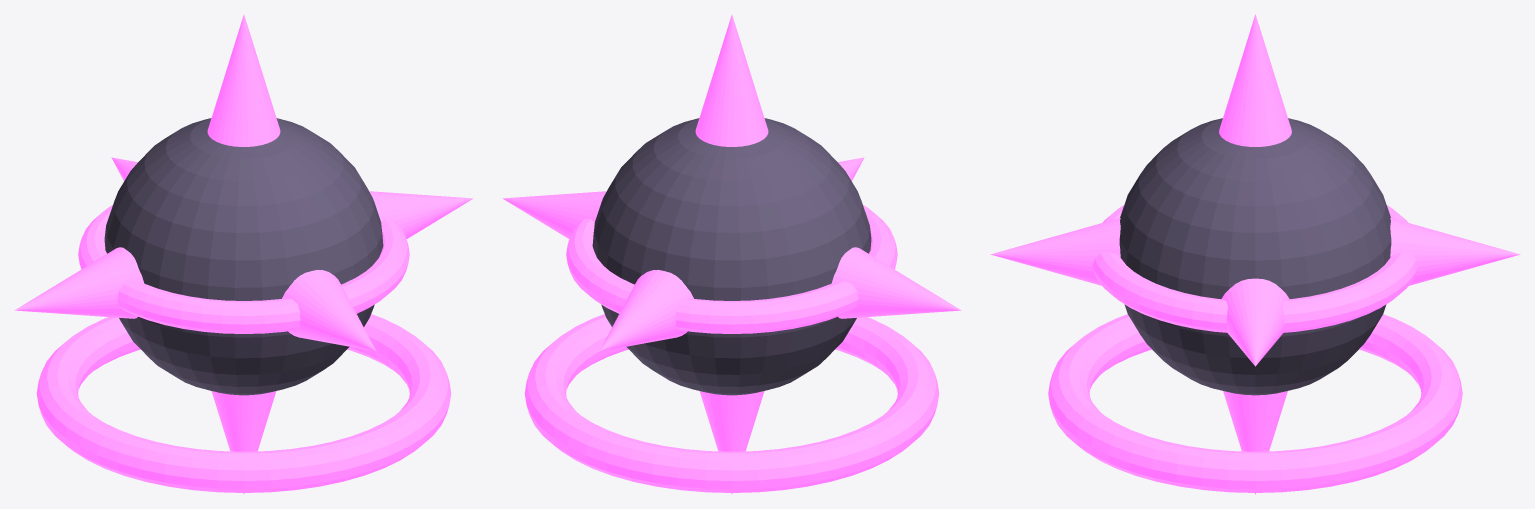
The model's file is powerup-pierce.glb.
3 views of the same model, side by side, from view 1: azimuth 30°, elevation 25°; view 2: azimuth 150°, elevation 25°; view 3: azimuth 270°, elevation 25° (orthographic).
Parts seen in each view (by area): view 1: Sphere, Torus.001, Torus, Cone.004, Cone.001, Cone.003, Cone.005, Cone; view 2: Sphere, Torus.001, Torus, Cone.004, Cone.001, Cone.002, Cone.005, Cone; view 3: Sphere, Torus.001, Torus, Cone.004, Cone.002, Cone.003, Cone, Cone.005.
Boxes of the visible parts, left/top/right/bottom form: Sphere: left=104, top=118, right=383, bottom=395; Torus.001: left=36, top=314, right=451, bottom=492; Torus: left=78, top=205, right=409, bottom=333; Cone.004: left=207, top=15, right=280, bottom=146; Cone.001: left=14, top=247, right=144, bottom=318; Cone.003: left=282, top=270, right=376, bottom=351; Cone.005: left=211, top=391, right=276, bottom=493; Cone: left=369, top=191, right=473, bottom=238; Sphere: left=592, top=118, right=871, bottom=395; Torus.001: left=524, top=314, right=939, bottom=492; Torus: left=566, top=205, right=897, bottom=333; Cone.004: left=695, top=15, right=768, bottom=146; Cone.001: left=831, top=247, right=961, bottom=318; Cone.002: left=599, top=270, right=693, bottom=351; Cone.005: left=699, top=391, right=764, bottom=493; Cone: left=502, top=191, right=606, bottom=238; Sphere: left=1119, top=118, right=1391, bottom=395; Torus.001: left=1048, top=314, right=1462, bottom=492; Torus: left=1092, top=205, right=1418, bottom=332; Cone.004: left=1219, top=14, right=1291, bottom=146; Cone.002: left=1390, top=218, right=1520, bottom=285; Cone.003: left=990, top=218, right=1120, bottom=285; Cone: left=1221, top=278, right=1289, bottom=366; Cone.005: left=1223, top=391, right=1287, bottom=494.
Bounding box in the file's own units: 1.28 × 1.28 × 1.28.
